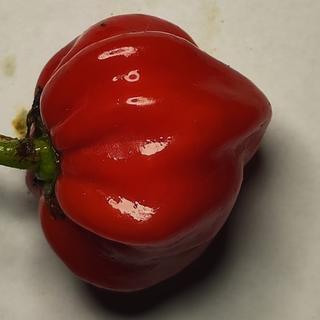Grade-B: (25, 9, 274, 296)
